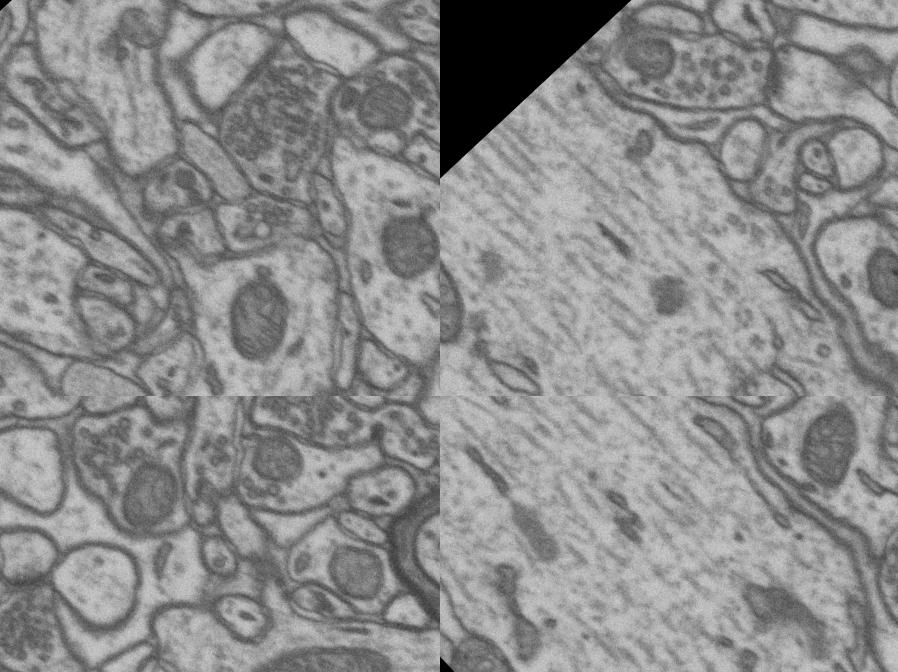mitochondria: (194, 583, 388, 672), (761, 396, 895, 512), (198, 257, 318, 378), (96, 422, 210, 534), (440, 598, 609, 672), (440, 193, 514, 357), (594, 1, 702, 108), (354, 184, 440, 298), (307, 524, 406, 622), (338, 54, 436, 152), (231, 410, 320, 500), (840, 236, 898, 338)
